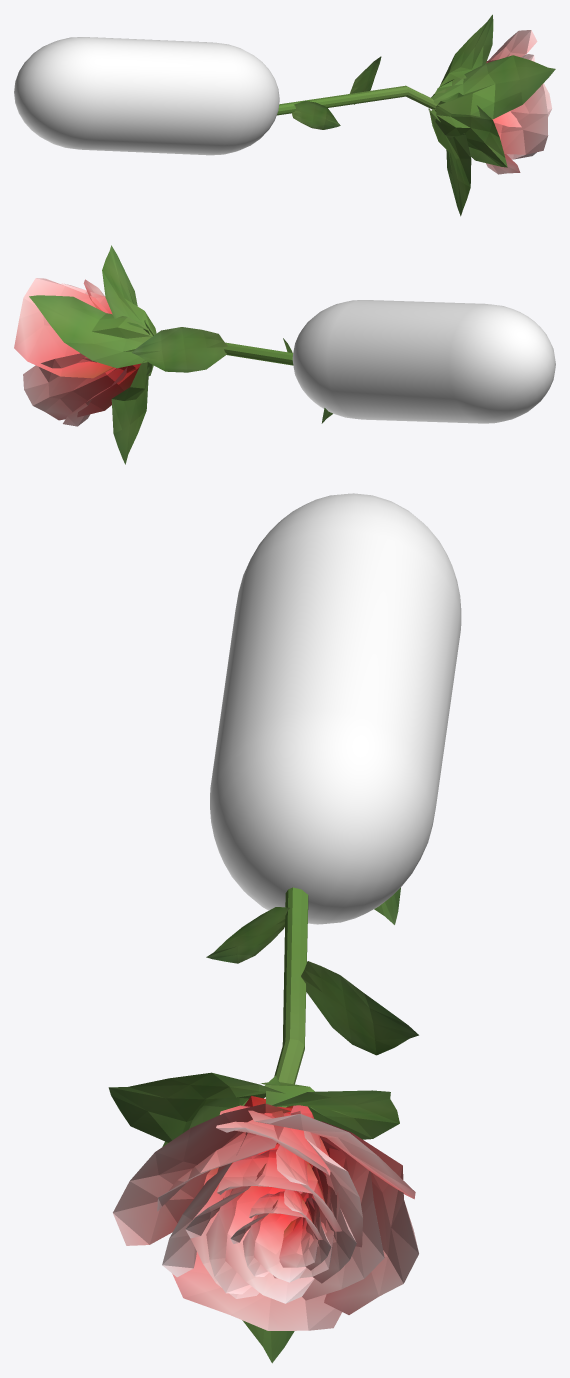
File: Pink Rose Anchor.fbx
3 renders of one model, top to bottom at view 1: azimuth 30°, elevation 25°; view 2: azimuth 150°, elevation 25°; view 3: azimuth 270°, elevation 25°, orthographic. The views are drawn at different scales.
Parts seen in each view (by area): view 1: Capsule__4_, PINK_ROSE; view 2: Capsule__4_, PINK_ROSE; view 3: Capsule__4_, PINK_ROSE.
Boxes of the visible parts, bbox=[...] form: Capsule__4_: bbox=[14, 37, 279, 155]; PINK_ROSE: bbox=[277, 14, 555, 216]; Capsule__4_: bbox=[292, 300, 555, 423]; PINK_ROSE: bbox=[14, 245, 332, 464]; Capsule__4_: bbox=[210, 493, 461, 924]; PINK_ROSE: bbox=[108, 887, 418, 1363].
Size of the model in its own units: 31.72 by 15.15 by 9.73.
